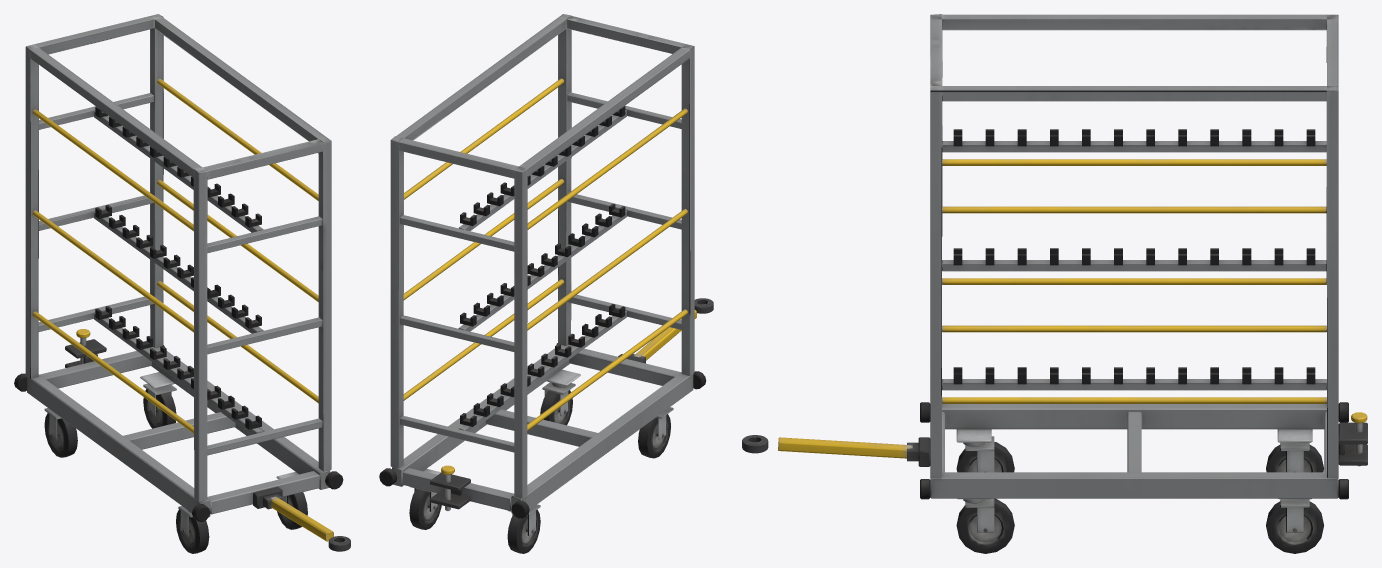
Rendered from SteeringWheelWagon.fbx.
3 renders of one model, left to right at view 1: azimuth 30°, elevation 25°; view 2: azimuth 150°, elevation 25°; view 3: azimuth 270°, elevation 25°, orthographic. The views are drawn at different scales.
Visible parts, largest first — view 1: SteeringWheelWagon_LOD0, Drawbar_LOD0, Wheel_RR_LOD0, Wheel_FR_LOD0, Wheel_RL_LOD0, Wheel_FL_LOD0; view 2: SteeringWheelWagon_LOD0, Wheel_FR_LOD0, Wheel_RR_LOD0, Wheel_RL_LOD0, Drawbar_LOD0, Wheel_FL_LOD0; view 3: SteeringWheelWagon_LOD0, Drawbar_LOD0, Wheel_RL_LOD0, Wheel_FL_LOD0, Wheel_FR_LOD0, Wheel_RR_LOD0.
Part boxes in pixels (box(x1,y1,x2,y2)): SteeringWheelWagon_LOD0: box(14, 14, 343, 521); Drawbar_LOD0: box(263, 493, 350, 551); Wheel_RR_LOD0: box(44, 413, 77, 457); Wheel_FR_LOD0: box(176, 509, 209, 553); Wheel_RL_LOD0: box(143, 389, 176, 428); Wheel_FL_LOD0: box(277, 492, 307, 529); SteeringWheelWagon_LOD0: box(379, 14, 706, 535); Wheel_FR_LOD0: box(638, 414, 670, 458); Wheel_RR_LOD0: box(507, 509, 540, 553); Wheel_RL_LOD0: box(409, 488, 441, 529); Drawbar_LOD0: box(630, 298, 713, 360); Wheel_FL_LOD0: box(540, 390, 572, 425); SteeringWheelWagon_LOD0: box(918, 14, 1367, 532); Drawbar_LOD0: box(742, 435, 918, 461); Wheel_RL_LOD0: box(1266, 501, 1323, 553); Wheel_FL_LOD0: box(956, 498, 1014, 553); Wheel_FR_LOD0: box(956, 442, 1014, 472); Wheel_RR_LOD0: box(1266, 444, 1323, 472).
Size of what is drawn, in the model's own units: 0.69 by 1.78 by 2.14.
Materials: 1 (1 with a texture image).
